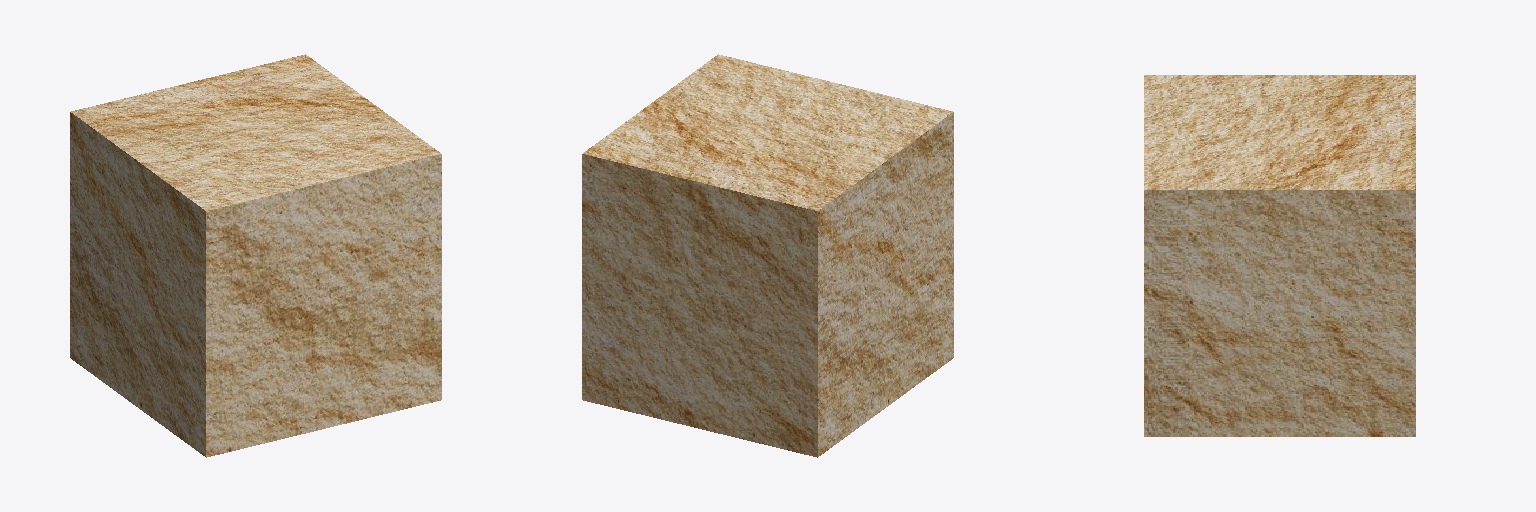
3 views of the same model, side by side, from view 1: azimuth 30°, elevation 25°; view 2: azimuth 150°, elevation 25°; view 3: azimuth 270°, elevation 25° (orthographic).
Visible parts, largest first — view 1: Cube.002; view 2: Cube.002; view 3: Cube.002.
Boxes of the visible parts, box(x1,y1,x2,y2) form: Cube.002: box(70, 54, 441, 457); Cube.002: box(582, 54, 953, 457); Cube.002: box(1144, 75, 1415, 436).
Size of the model in its own units: 2 by 2 by 2.
Materials: 1 (1 with a texture image).